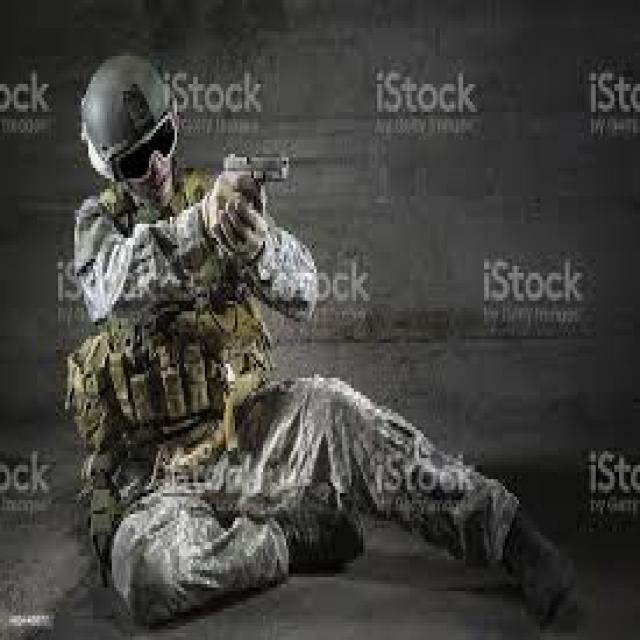soldier: (77, 50, 588, 625)
